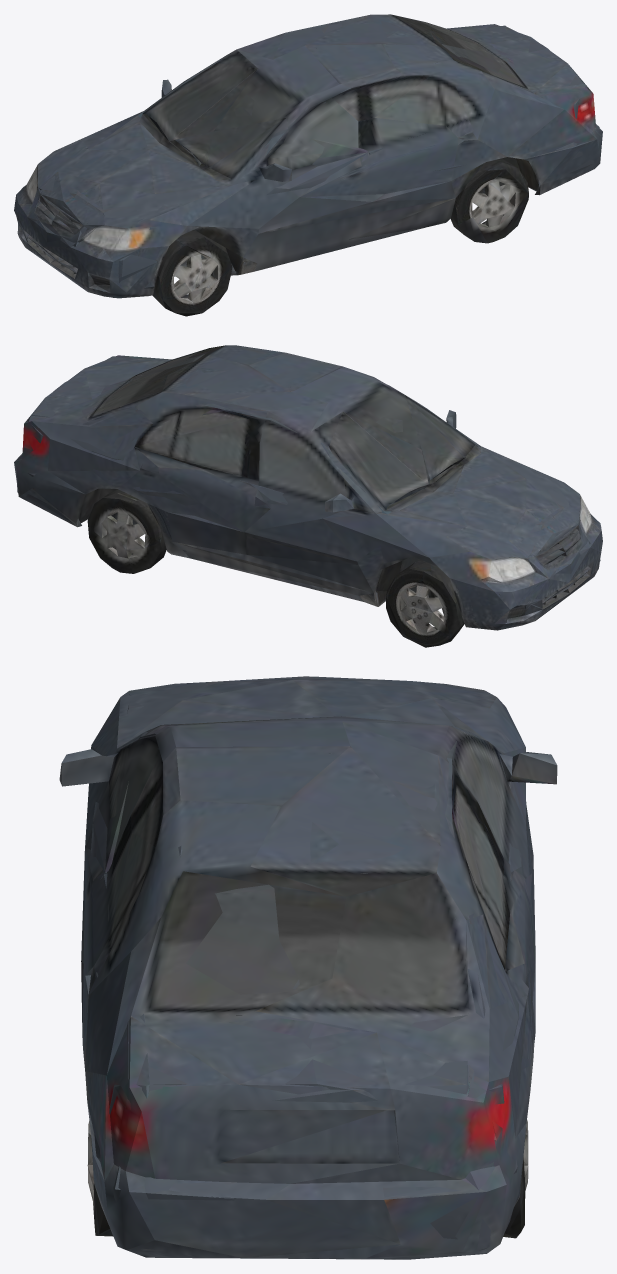
Rendered from prop-sedan.glb.
3 views of the same model, one above another, from view 1: azimuth 30°, elevation 25°; view 2: azimuth 150°, elevation 25°; view 3: azimuth 270°, elevation 25° (orthographic). The views are drawn at different scales.
Parts seen in each view (by area): view 1: output_unwrapped; view 2: output_unwrapped; view 3: output_unwrapped.
Part boxes in pixels (bbox=[...]): output_unwrapped: bbox=[14, 14, 602, 316]; output_unwrapped: bbox=[14, 345, 602, 647]; output_unwrapped: bbox=[59, 676, 557, 1259].
Size of the model in its own units: 1.9 by 0.6328 by 0.787.
Materials: 1 (1 with a texture image).
